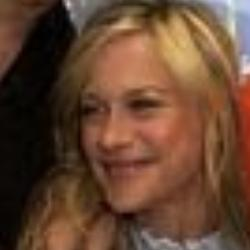face: (56, 2, 244, 229)
